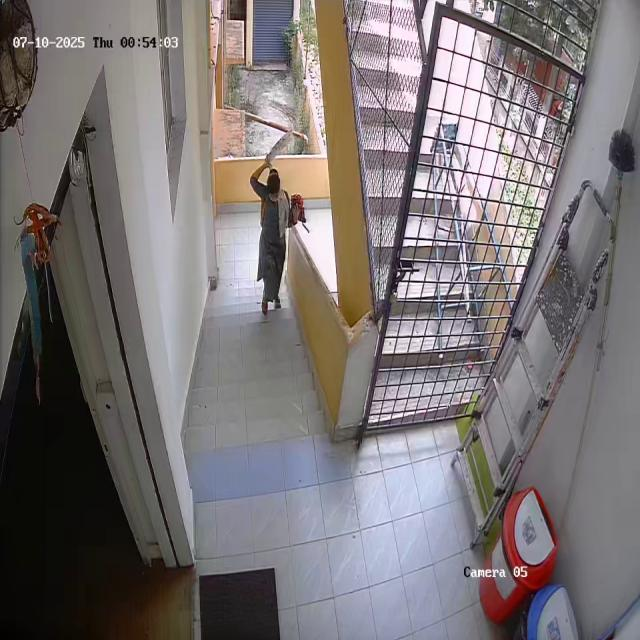person: (252, 171, 290, 311)
